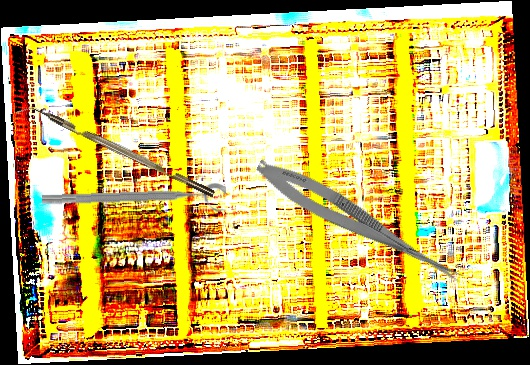Chopper: (15, 97, 216, 207)
Fixation Ring: (41, 182, 227, 221)
Micro Scissor: (249, 152, 472, 291)
